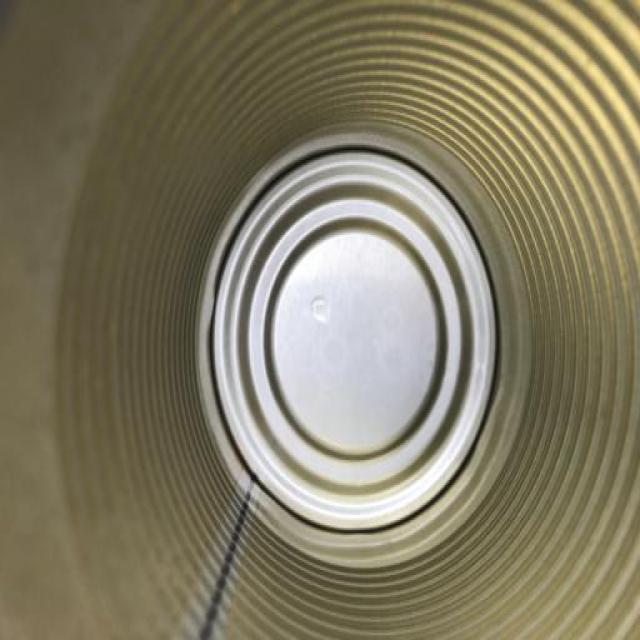metel: (5, 3, 640, 632)
